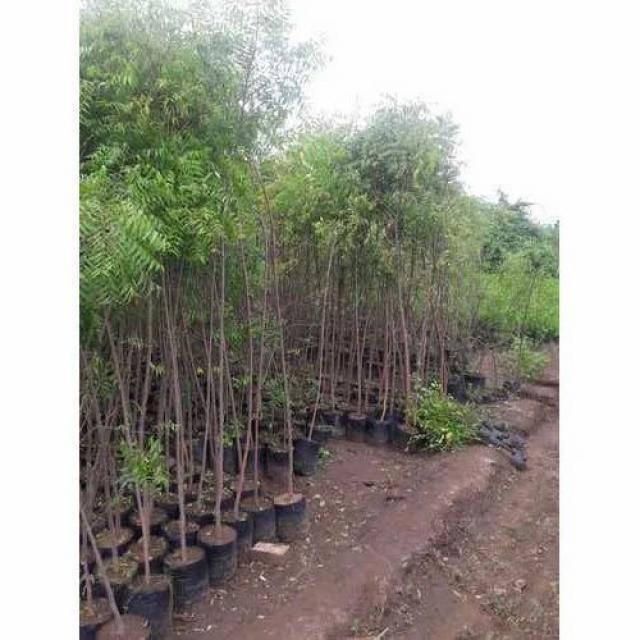Medicinal-Neem: (78, 119, 243, 311), (293, 93, 489, 250)
